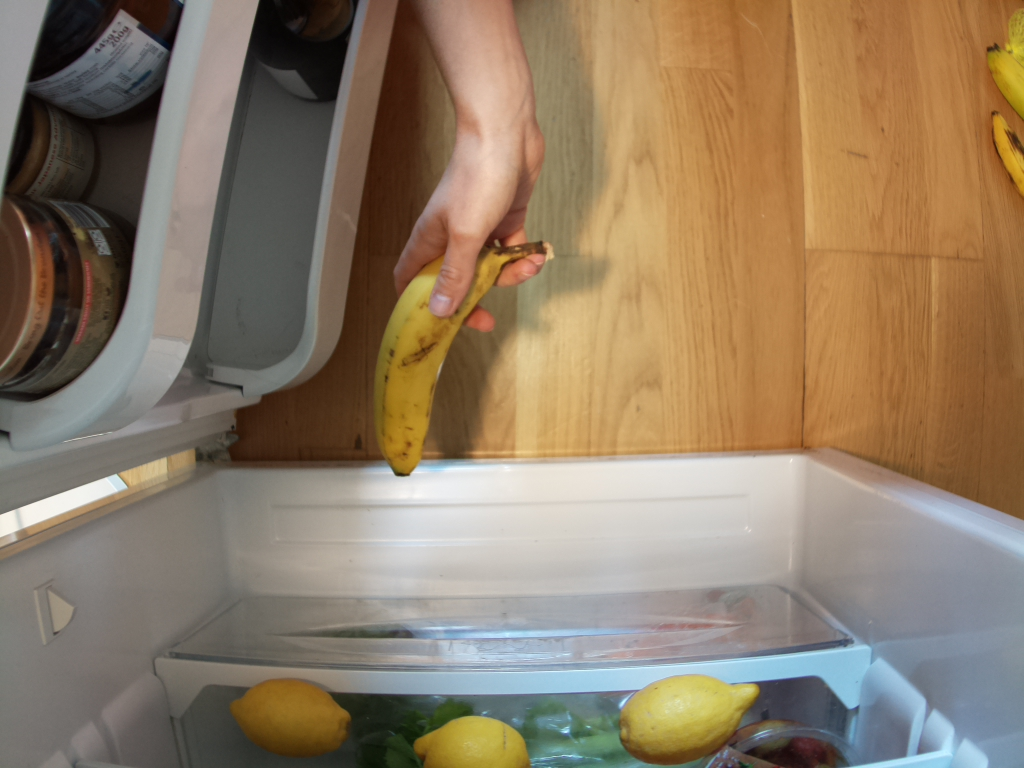banana: (373, 233, 549, 482)
